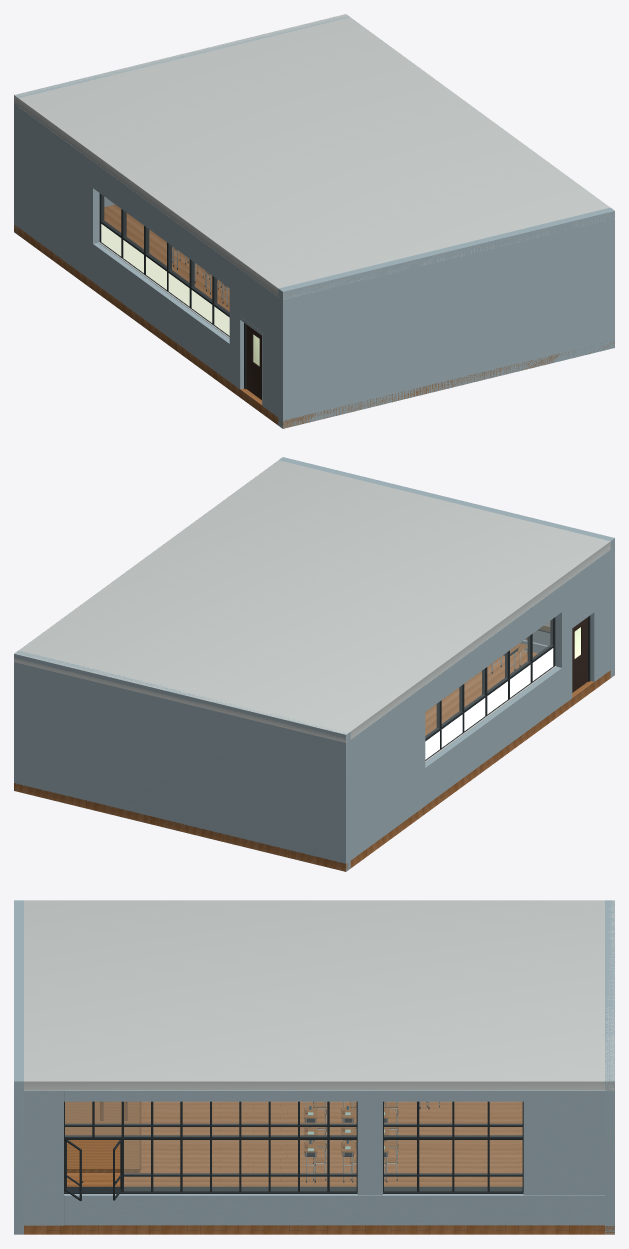
The model's file is Classroom_FullRoom_Interior.glb.
3 views of the same model, one above another, from view 1: azimuth 30°, elevation 25°; view 2: azimuth 150°, elevation 25°; view 3: azimuth 270°, elevation 25° (orthographic). The views are drawn at different scales.
Visible parts, largest first — view 1: Ceiling plaster slab, Front pale blue plaster wall, FULLROOM inferred right rear wall, Continuous wood plank floor, Right window sill wall, Right window upper wall, Right wall front door-side pier, INFERRED rear extent plain wall, Right wall door-to-window pier, Right wall doorway lintel, Observed dark door leaf, Observed right-window continuous bar.001 (+3 smaller); view 2: Ceiling plaster slab, INFERRED rear extent plain wall, FULLROOM inferred right rear wall, Continuous wood plank floor, Right window sill wall, Right window upper wall, Front pale blue plaster wall, Right wall front door-side pier, Right wall door-to-window pier, Right wall doorway lintel, Observed dark door leaf, Observed right-window continuous bar.001 (+4 smaller); view 3: Ceiling plaster slab, Continuous wood plank floor, V3 left sill wall, FULLROOM inferred rear pier outer return, V3 left upper spandrel, FULLROOM inferred left front backing, Front raised wooden podium, Front pale blue plaster wall, INFERRED rear extent plain wall, FULLROOM inferred central pier outer return, V3 front sill ledge, V3 front horizontal 2 (+36 smaller).
Boxes of the visible parts, <box> form: Ceiling plaster slab: <box>14,14,614,299</box>; Front pale blue plaster wall: <box>278,207,614,428</box>; FULLROOM inferred right rear wall: <box>18,107,99,281</box>; Continuous wood plank floor: <box>14,204,614,428</box>; Right window sill wall: <box>93,242,229,381</box>; Right window upper wall: <box>93,161,229,287</box>; Right wall front door-side pier: <box>262,285,278,416</box>; INFERRED rear extent plain wall: <box>14,16,349,233</box>; Right wall door-to-window pier: <box>229,261,243,389</box>; Right wall doorway lintel: <box>240,269,262,331</box>; Observed dark door leaf: <box>246,324,261,399</box>; Observed right-window continuous bar.001: <box>100,220,229,317</box>; Ceiling plaster slab: <box>14,460,610,742</box>; INFERRED rear extent plain wall: <box>14,650,350,871</box>; FULLROOM inferred right rear wall: <box>350,685,425,860</box>; Continuous wood plank floor: <box>14,650,614,871</box>; Right window sill wall: <box>425,666,561,805</box>; Right window upper wall: <box>425,585,561,711</box>; Front pale blue plaster wall: <box>279,457,614,677</box>; Right wall front door-side pier: <box>590,550,610,681</box>; Right wall door-to-window pier: <box>555,578,572,705</box>; Right wall doorway lintel: <box>571,562,594,624</box>; Observed dark door leaf: <box>572,617,587,692</box>; Observed right-window continuous bar.001: <box>425,644,554,741</box>; Ceiling plaster slab: <box>24,900,614,1090</box>; Continuous wood plank floor: <box>24,1101,614,1234</box>; V3 left sill wall: <box>64,1194,604,1225</box>; FULLROOM inferred rear pier outer return: <box>523,1100,604,1195</box>; V3 left upper spandrel: <box>64,1090,604,1101</box>; FULLROOM inferred left front backing: <box>24,1090,63,1225</box>; Front raised wooden podium: <box>65,1101,140,1172</box>; Front pale blue plaster wall: <box>14,900,23,1234</box>; INFERRED rear extent plain wall: <box>605,900,614,1234</box>; FULLROOM inferred central pier outer return: <box>357,1100,382,1195</box>; V3 front sill ledge: <box>64,1186,357,1193</box>; V3 front horizontal 2: <box>65,1135,357,1139</box>.
Size of the model in its own units: 8.82 by 3.35 by 11.9.
37 materials, 6 textured.
